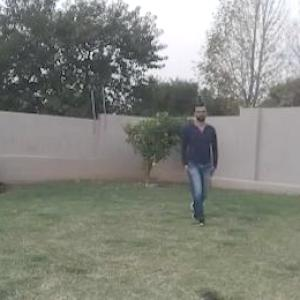follow: (179, 104, 217, 223)
